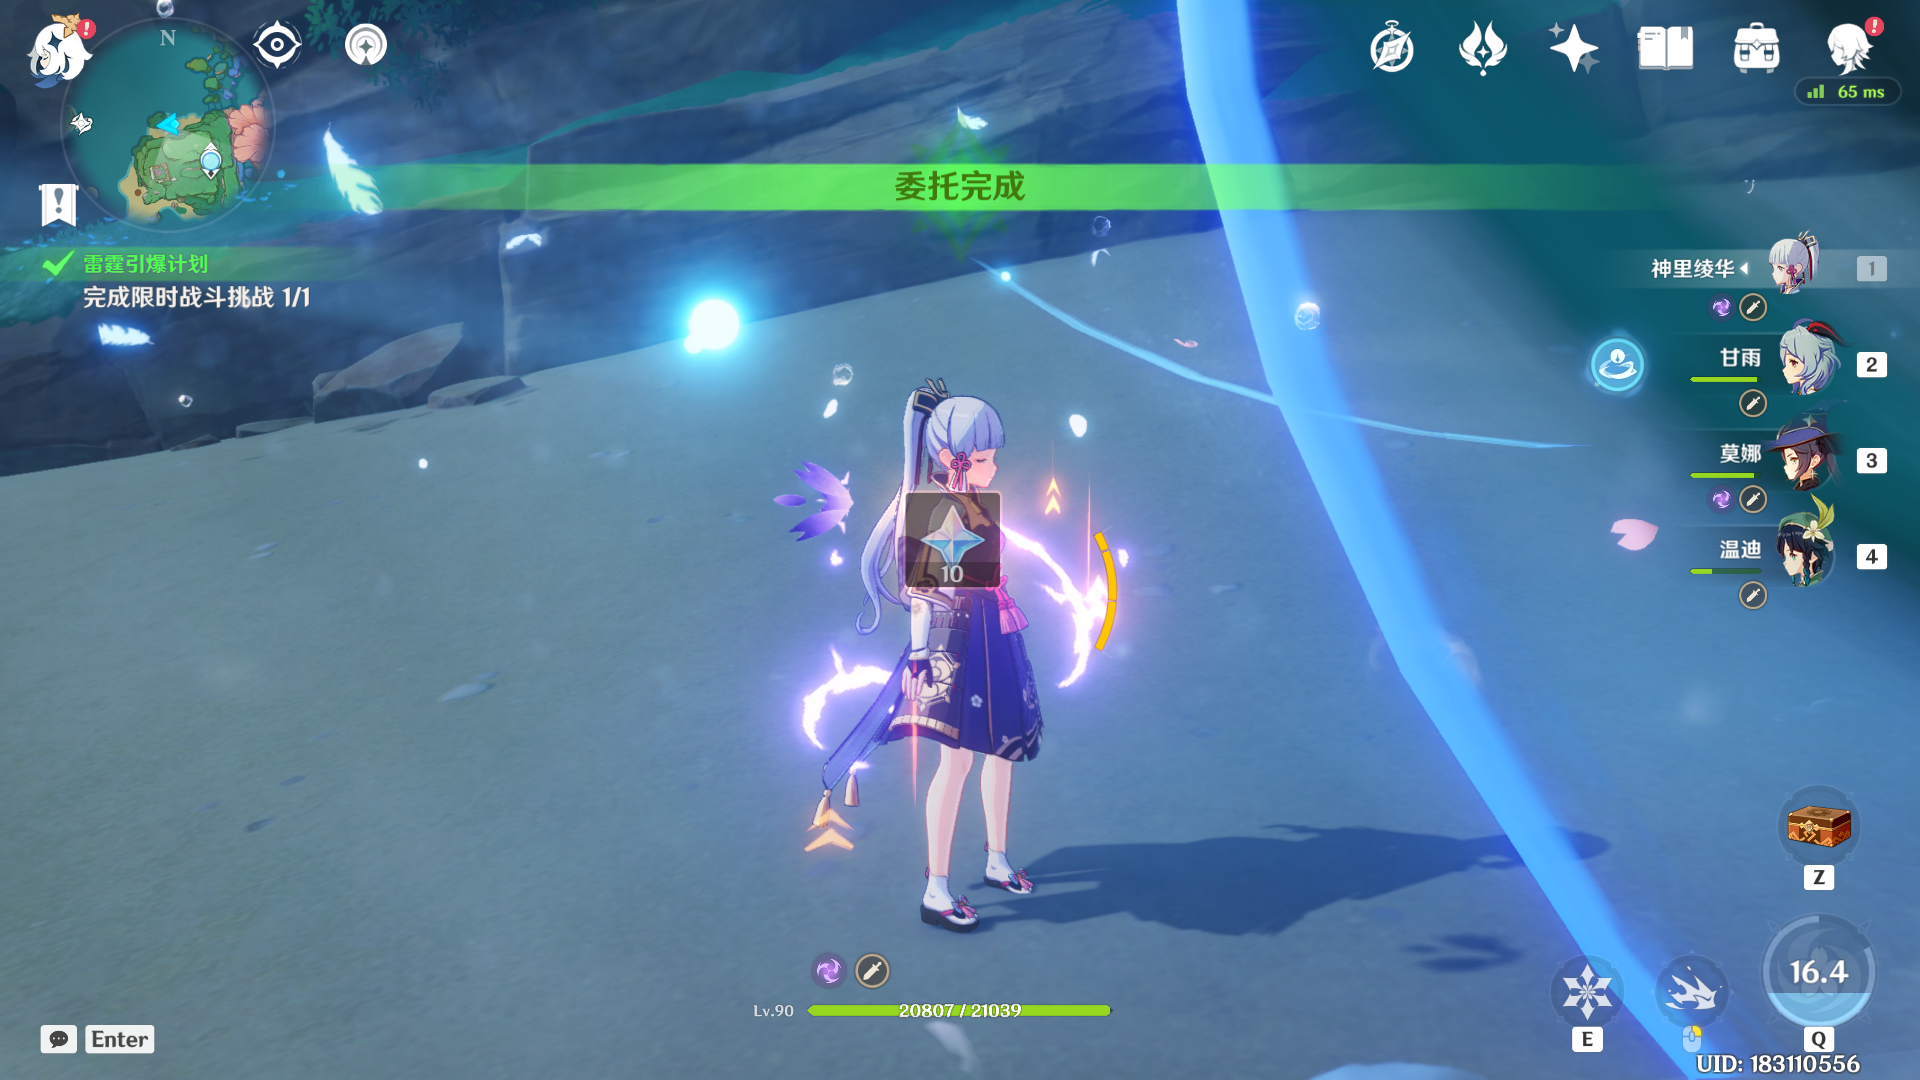character: (756, 320, 1125, 953)
